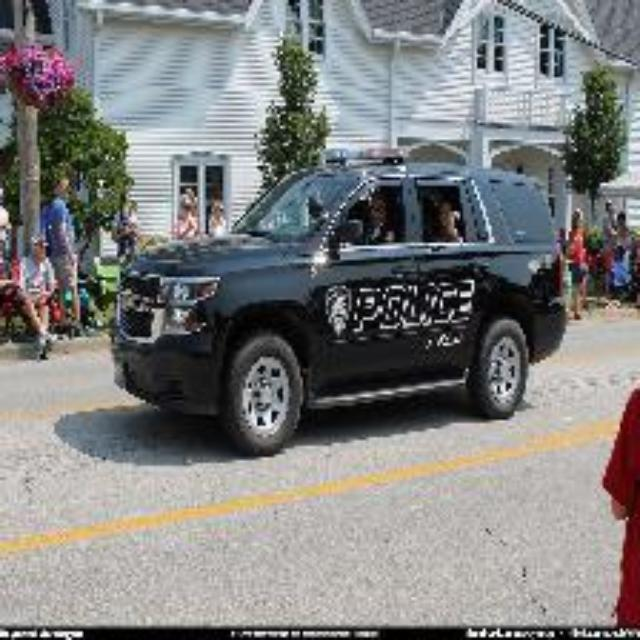emergency: (137, 152, 577, 460)
